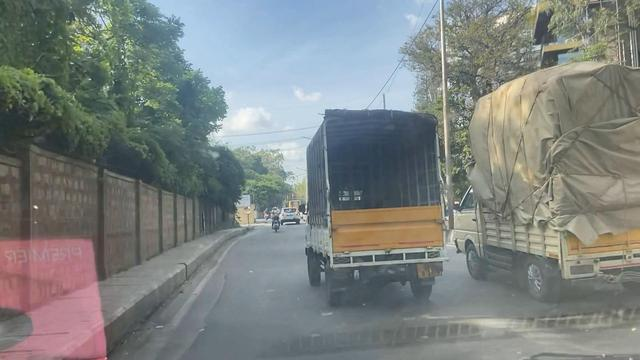HMV: (453, 65, 640, 309), (294, 100, 467, 315)
